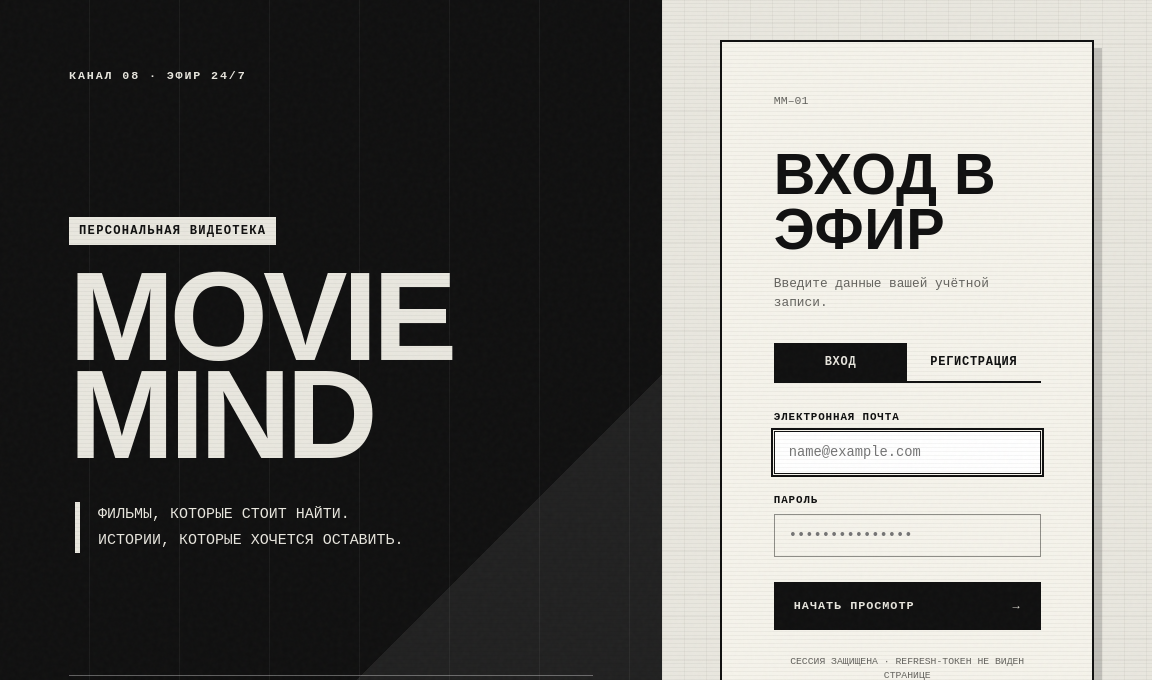
it: MovieMind React application › shows login and registration when refresh is unavailable
Expected: the heading "Вход в эфир" is shown, [774,142,996,260]
Click the tab "Регистрация" at (974, 362), box [907,343,1041,381]
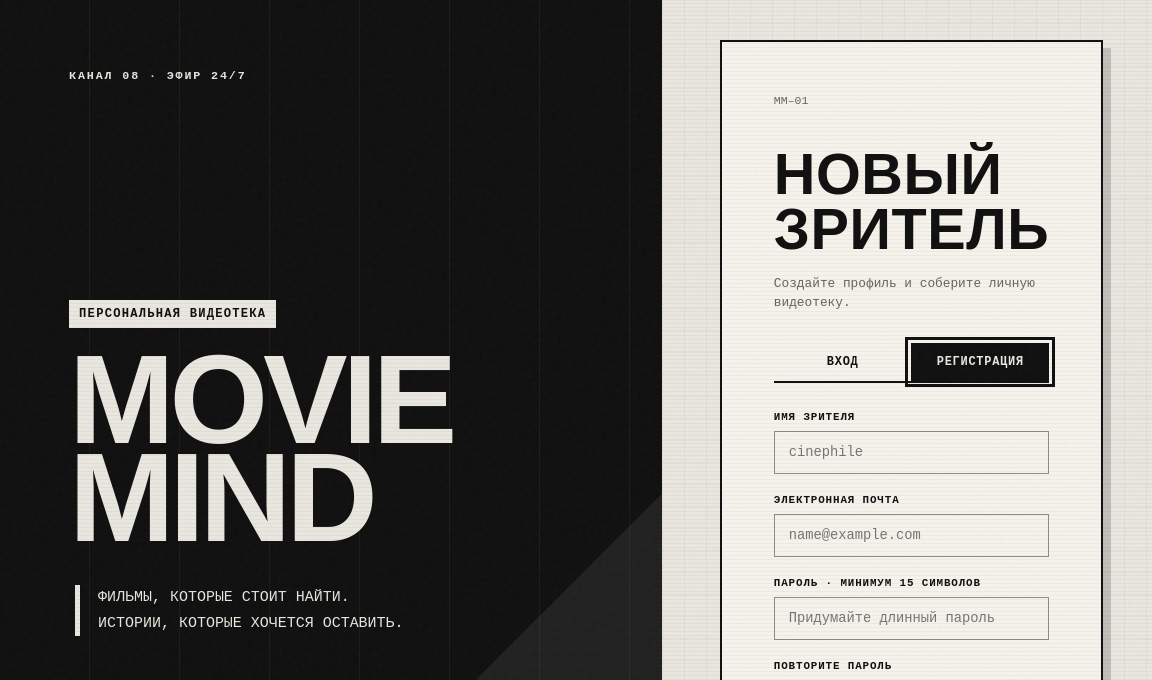
Now the heading "Новый зритель" is shown, box [774,147,1049,256]
